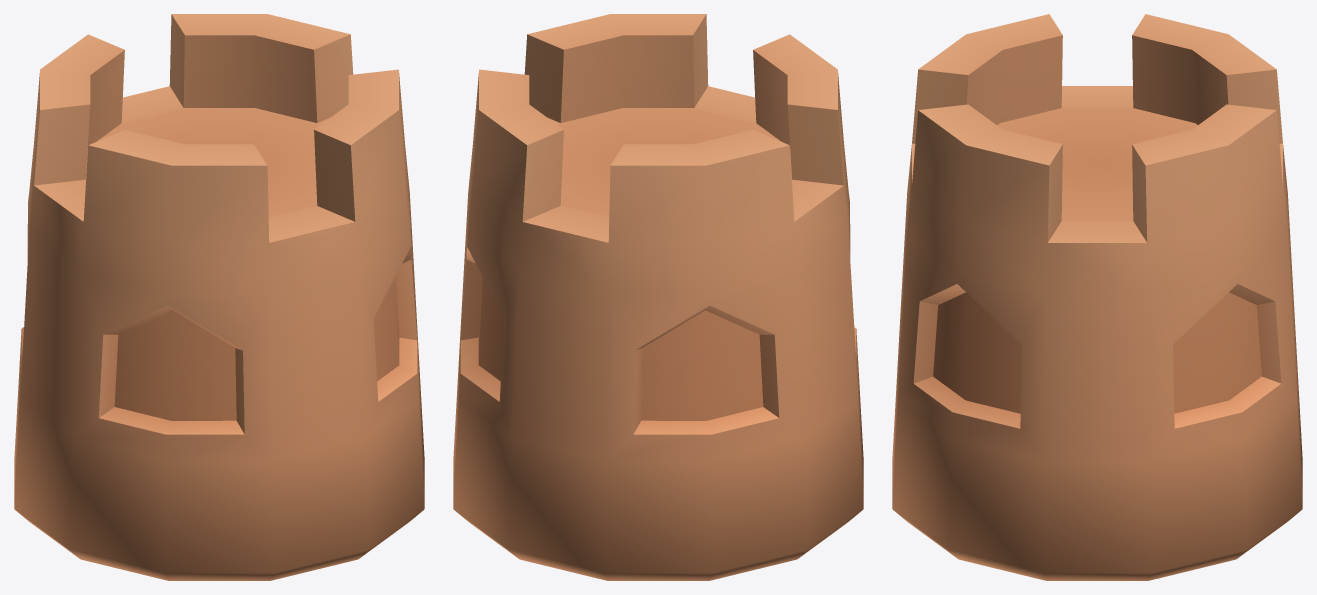
The model's file is sandcastle_B.glb.
The picture shows the model from 3 angles, left to right: view 1: azimuth 30°, elevation 25°; view 2: azimuth 150°, elevation 25°; view 3: azimuth 270°, elevation 25°; orthographic projection.
Visible parts, largest first — view 1: sandcastle_B; view 2: sandcastle_B; view 3: sandcastle_B.
Boxes of the visible parts, x1=… form: sandcastle_B: x1=14, y1=14, x2=424, y2=580; sandcastle_B: x1=453, y1=14, x2=863, y2=580; sandcastle_B: x1=892, y1=14, x2=1302, y2=580.
Bounding box in the file's own units: 0.498 × 0.55 × 0.498.
Materials: 1 (1 with a texture image).
